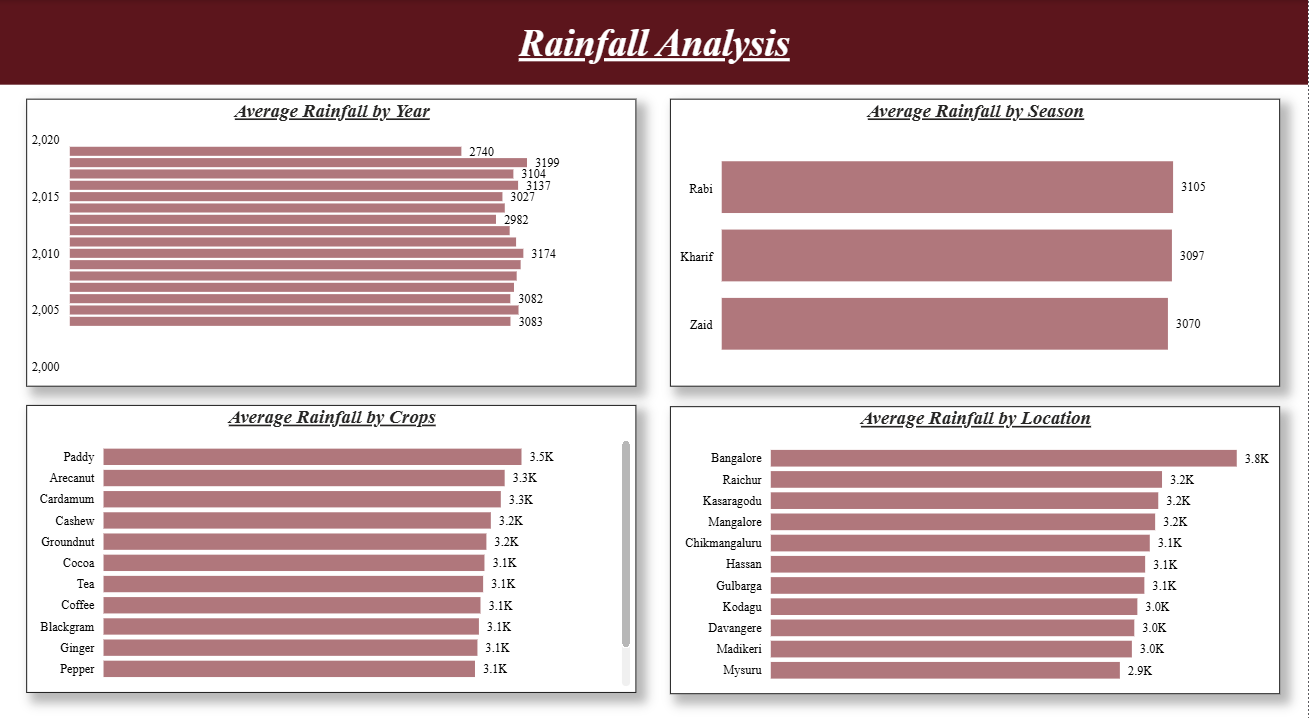

This screenshot's page, from the dashboard's own definition file:
{"tool":"powerbi","page":{"name":"Rainfall Analysis","canvas":[1280,720],"ordinal":0},"visuals":[{"type":"shape","box":[0,0,1280,82.9],"z":0},{"type":"barChart","title":"Average Rainfall by Year","fields":{"Y":["Avg(ARGRICULTURE.RAINFALL)"],"Category":["ARGRICULTURE.YEAR"]},"box":[25.7,97.1,597.1,281.4],"z":1000},{"type":"barChart","title":"Average Rainfall by Season","fields":{"Y":["Avg(ARGRICULTURE.RAINFALL)"],"Category":["ARGRICULTURE.SEASON"]},"box":[655.7,97.1,597.1,281.4],"z":2000},{"type":"barChart","title":"Average Rainfall by Crops","fields":{"Y":["Avg(ARGRICULTURE.RAINFALL)"],"Category":["ARGRICULTURE.CROPS"]},"box":[25.7,395.7,597.1,281.4],"z":3000},{"type":"barChart","title":"Average Rainfall by  Location","fields":{"Y":["Avg(ARGRICULTURE.RAINFALL)"],"Category":["ARGRICULTURE.LOCATION"]},"box":[655.7,397.1,597.1,281.4],"z":4000}]}

Visuals, with their boxes in screenshot pixels (x1, y1, x2, y2), scaled from the page's 1280x720 canvas onto the 1309x718 screenshot:
shape: BBox(0, 0, 1308, 83)
"Average Rainfall by Year" barChart: BBox(26, 97, 637, 377)
"Average Rainfall by Season" barChart: BBox(671, 97, 1281, 377)
"Average Rainfall by Crops" barChart: BBox(26, 395, 637, 675)
"Average Rainfall by  Location" barChart: BBox(671, 396, 1281, 677)
